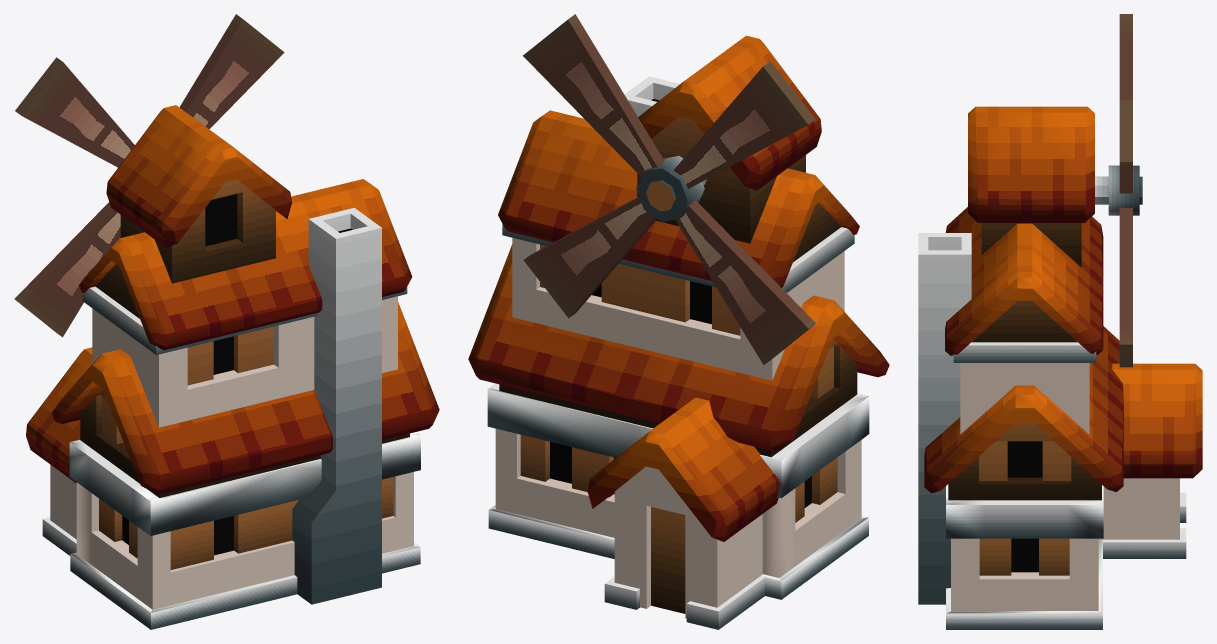
File: farm_house_lvl7.fbx
The picture shows the model from 3 angles, left to right: view 1: azimuth 30°, elevation 25°; view 2: azimuth 150°, elevation 25°; view 3: azimuth 270°, elevation 25°; orthographic projection. The views are drawn at different scales.
Visible parts, largest first — view 1: farm_house_lvl7; view 2: farm_house_lvl7; view 3: farm_house_lvl7.
Part boxes in pixels (bbox=[...]): farm_house_lvl7: bbox=[14, 14, 439, 629]; farm_house_lvl7: bbox=[468, 14, 889, 629]; farm_house_lvl7: bbox=[918, 14, 1202, 629].
Bounding box in the file's own units: 1361 × 2020 × 1066.
